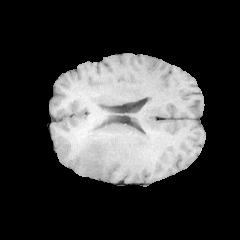glioma: (62, 97, 167, 177)
